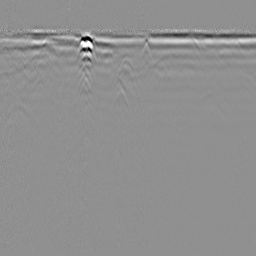cavity: (117, 55, 138, 76)
